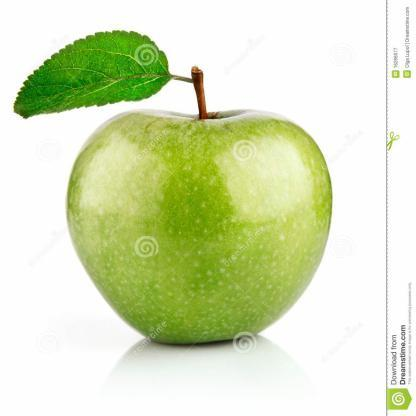Apple leaf: (10, 24, 176, 126)
